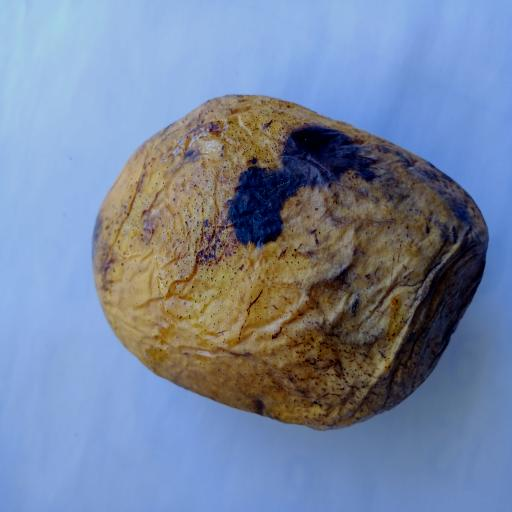mango-overripe: (83, 68, 500, 446)
